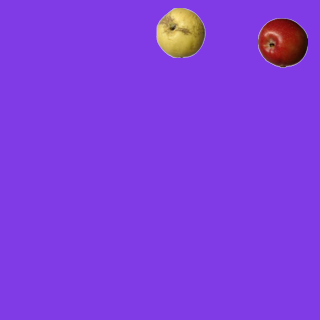Apple Braeburn: (257, 17, 307, 67)
Apple Golden 1: (155, 7, 205, 57)
